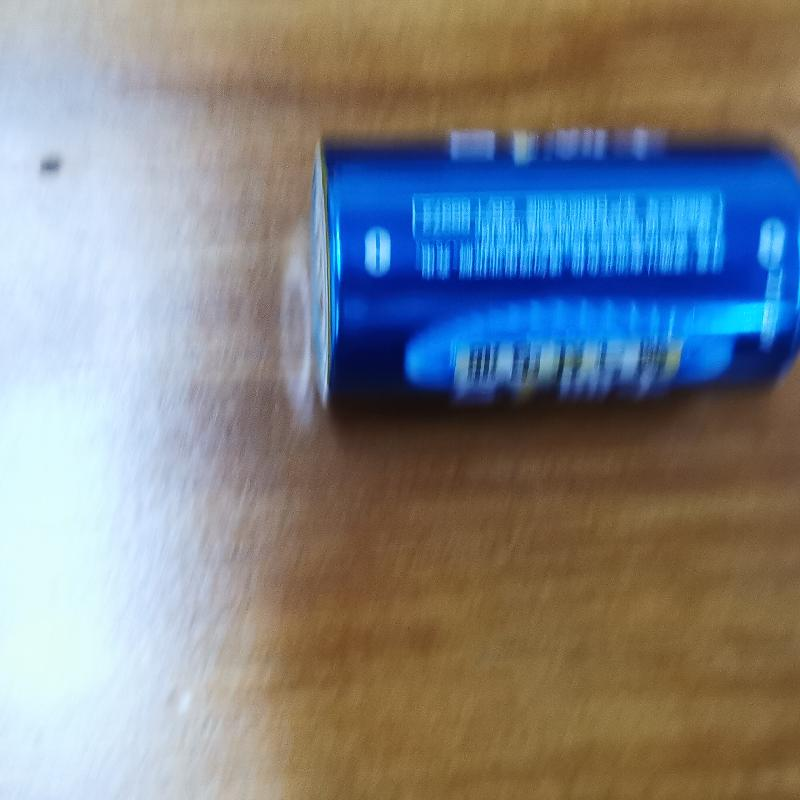battery: (301, 125, 800, 416)
